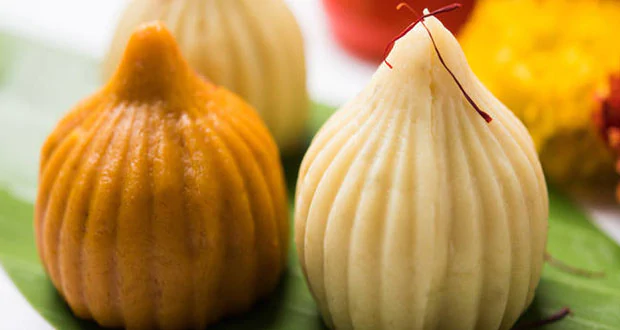modak: (31, 19, 309, 330), (296, 11, 547, 323)
